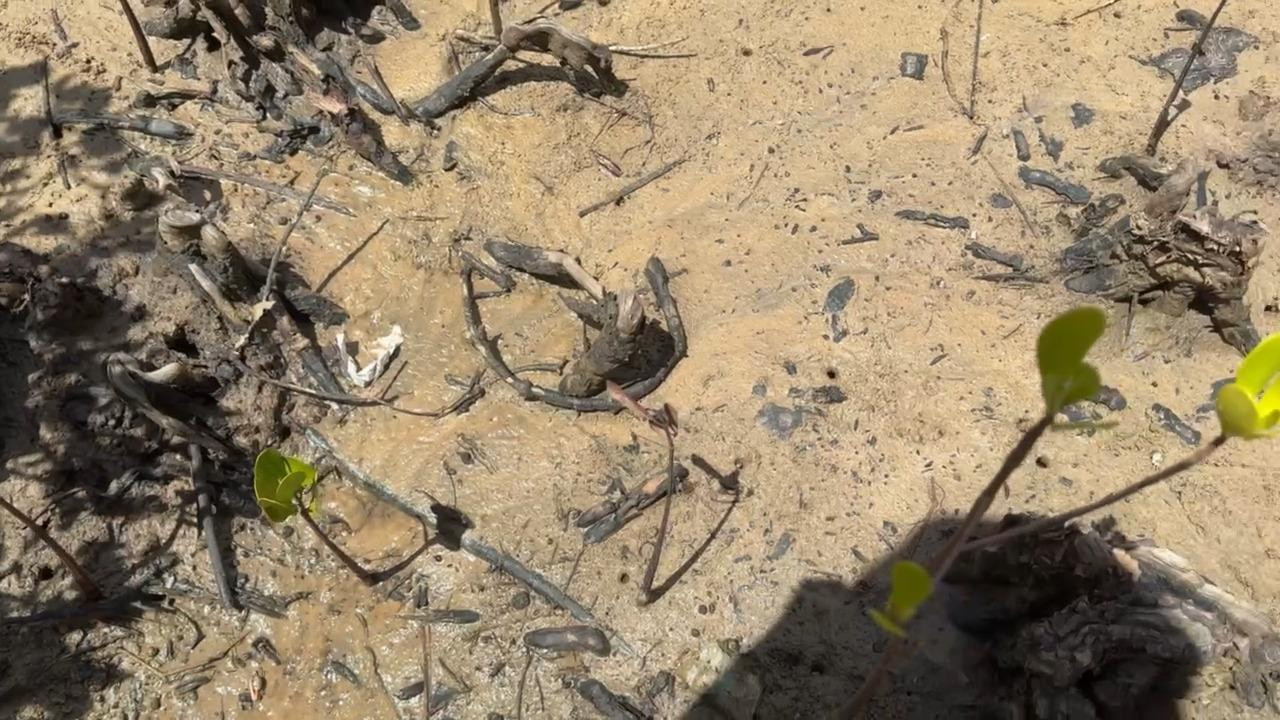Tree: (827, 306, 1280, 720), (255, 448, 374, 585)
